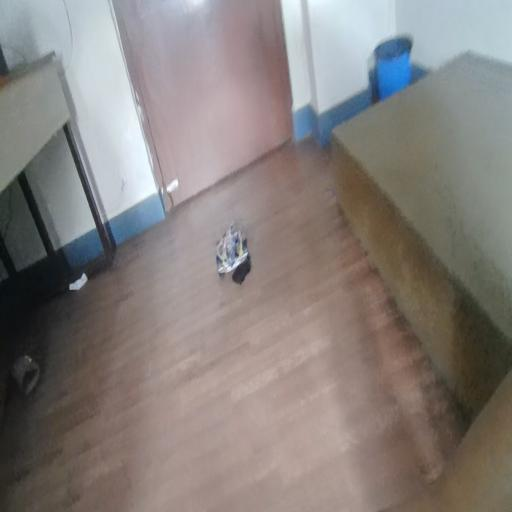car: (214, 230, 281, 285)
